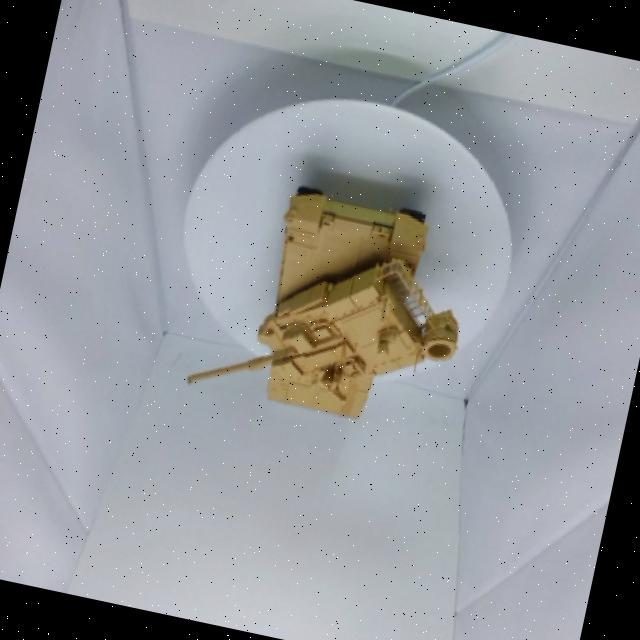korea tank: (126, 134, 508, 490)
